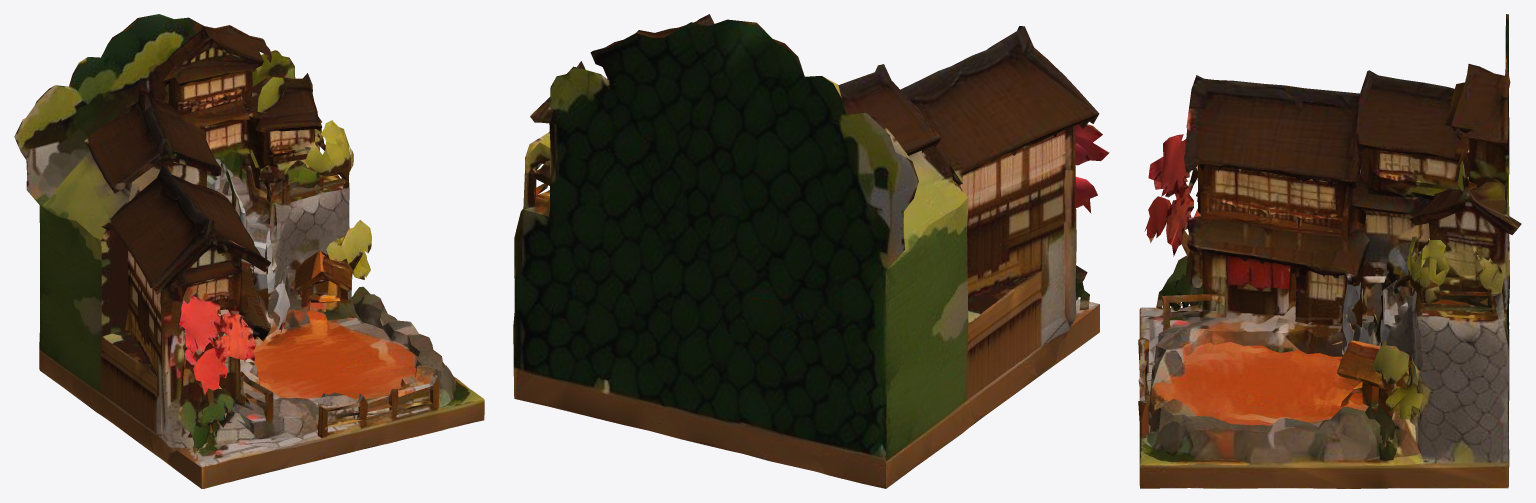
Rendered from arima-onsen.glb.
The picture shows the model from 3 angles, left to right: view 1: azimuth 30°, elevation 25°; view 2: azimuth 150°, elevation 25°; view 3: azimuth 270°, elevation 25°; orthographic projection. The views are drawn at different scales.
Parts seen in each view (by area): view 1: logan-textured.obj; view 2: logan-textured.obj; view 3: logan-textured.obj.
Part boxes in pixels (<box>): logan-textured.obj: <box>14,14,484,488</box>; logan-textured.obj: <box>513,14,1109,488</box>; logan-textured.obj: <box>1138,14,1521,488</box>.
Size of the model in its own units: 0.9966 by 1 by 0.9312.
Materials: 1 (1 with a texture image).
